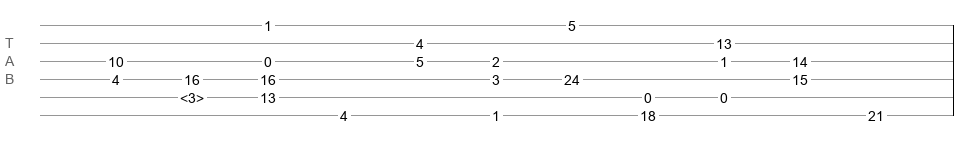0: (264, 54, 272, 64), (644, 90, 652, 100), (720, 90, 728, 100)
1: (264, 18, 272, 28), (492, 108, 500, 118), (720, 54, 728, 64)
10: (108, 54, 124, 64)
13: (260, 90, 276, 100), (716, 36, 732, 46)
14: (792, 54, 808, 64)
15: (792, 72, 808, 82)
16: (184, 72, 200, 82), (260, 72, 276, 82)
18: (640, 108, 656, 118)
2: (492, 54, 500, 64)
21: (868, 108, 884, 118)
24: (564, 72, 580, 82)
3: (492, 72, 500, 82)
4: (112, 72, 120, 82), (340, 108, 348, 118), (416, 36, 424, 46)
5: (416, 54, 424, 64), (568, 18, 576, 28)
harmonic: (180, 90, 204, 100)
